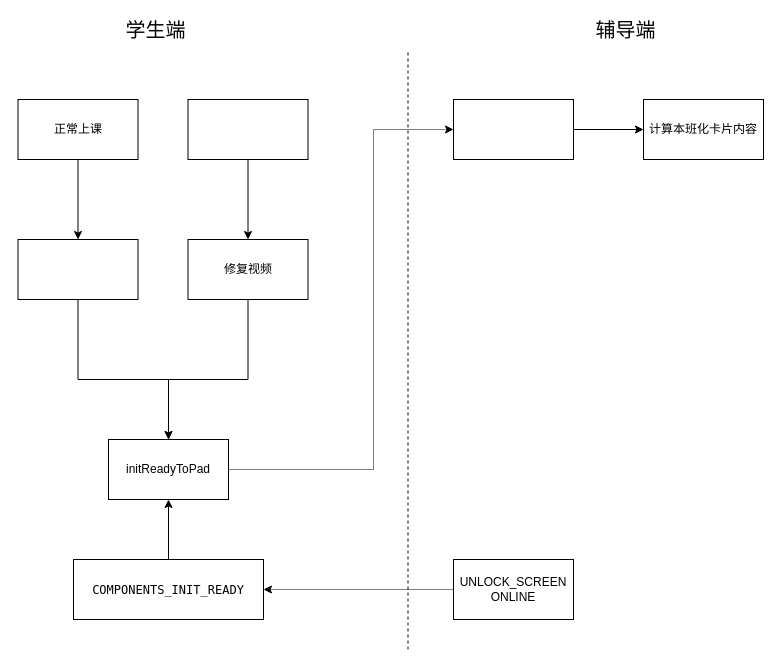
Some shapes in this 781 by 668 pixel diagram are drawn without their labels. Each missing label, with the centre of its shape:
GAME_INIT_READY: pixel 513 129
奔溃恢复: pixel 247 129
获取第一个视频: pixel 77 269
